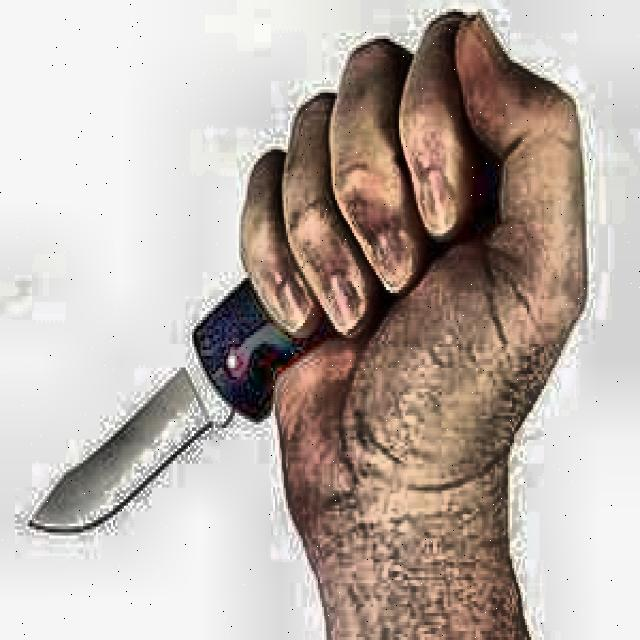knife: (31, 142, 498, 536)
